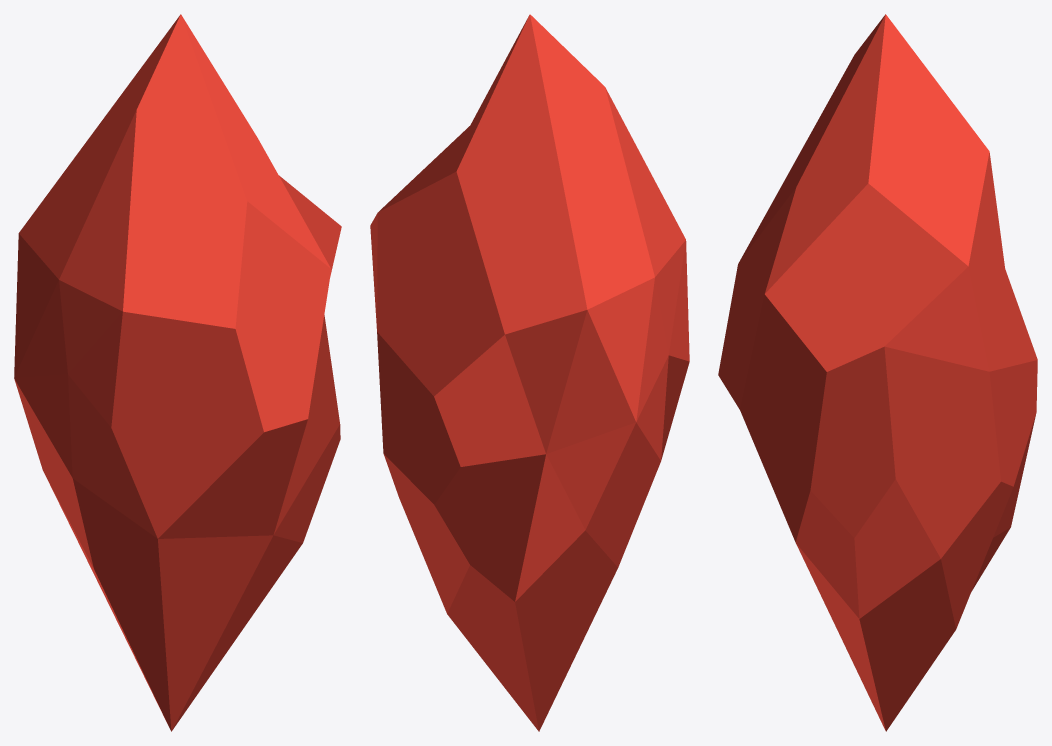
File: 石頭 小物件01.fbx
The picture shows the model from 3 angles, left to right: view 1: azimuth 30°, elevation 25°; view 2: azimuth 150°, elevation 25°; view 3: azimuth 270°, elevation 25°; orthographic projection.
Parts seen in each view (by area): view 1: Ico 球體; view 2: Ico 球體; view 3: Ico 球體.
Part boxes in pixels (box(x1,y1,x2,y2)): Ico 球體: box(14, 14, 341, 731); Ico 球體: box(370, 14, 689, 731); Ico 球體: box(718, 14, 1037, 731).
Bounding box in the file's own units: 133 × 306 × 123.
